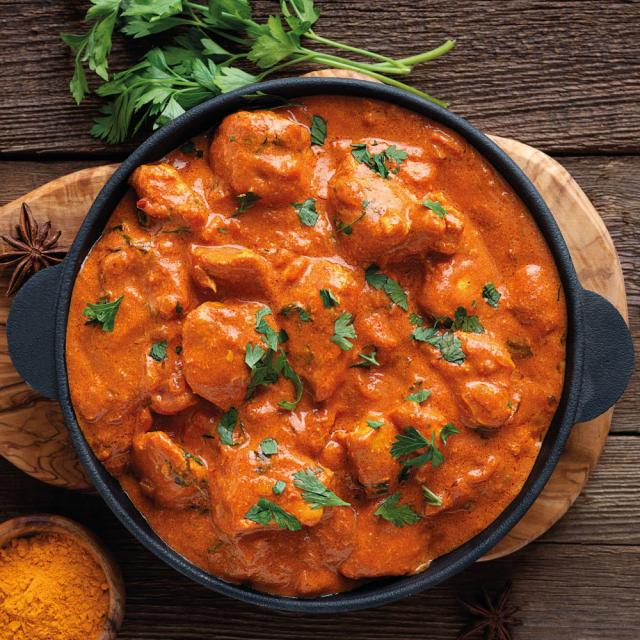Butter Chicken: (68, 91, 570, 598)
